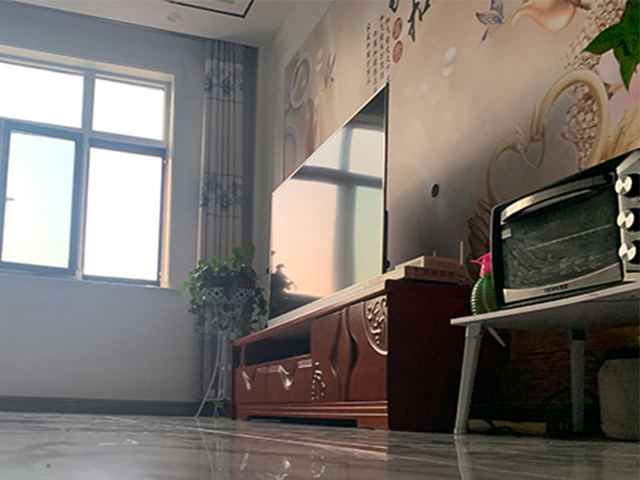cabinet: (229, 279, 501, 430)
curtain: (196, 36, 244, 403)
table: (447, 283, 640, 437)
